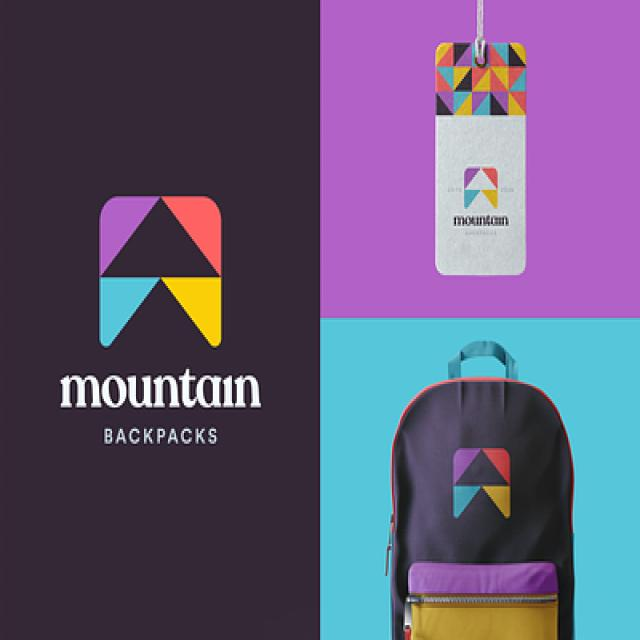backpack: (385, 338, 575, 639)
